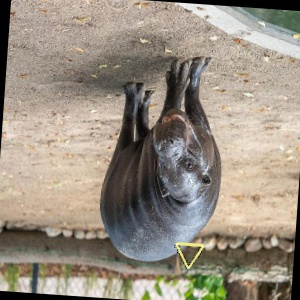triangle: (172, 239, 205, 274)
